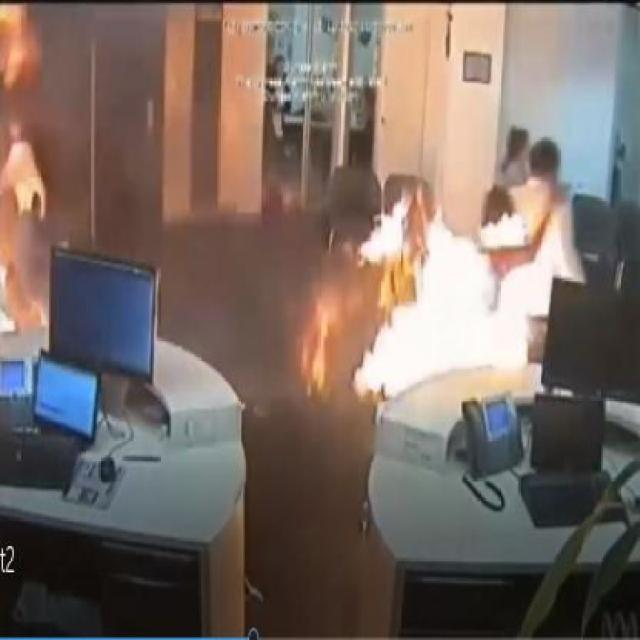Fire: (356, 182, 549, 402), (0, 3, 51, 346), (309, 290, 334, 398), (550, 207, 584, 284)
